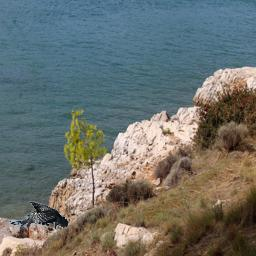Crow: (8, 201, 68, 230)
